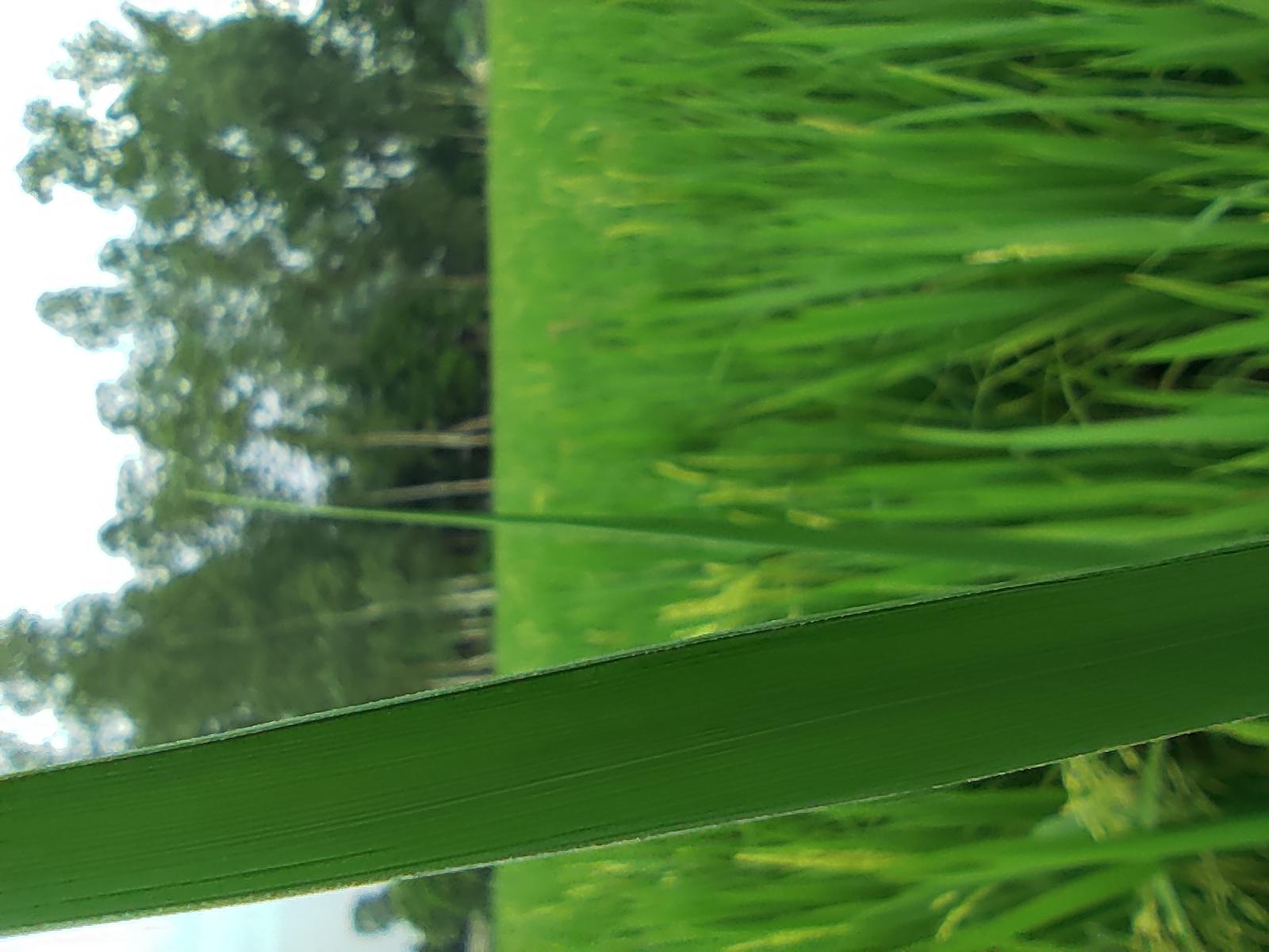Healthy: (24, 0, 543, 951)
